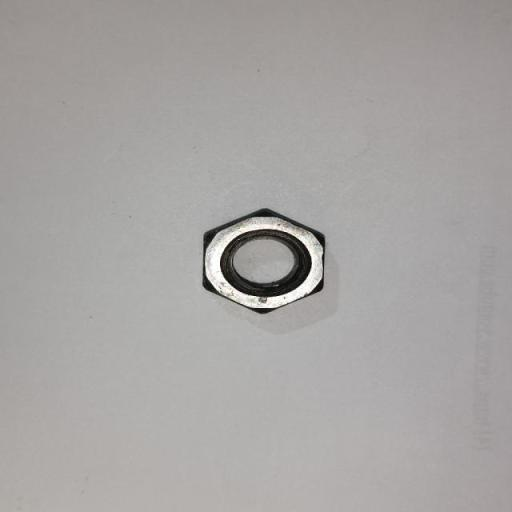Nut: (202, 208, 326, 314)
